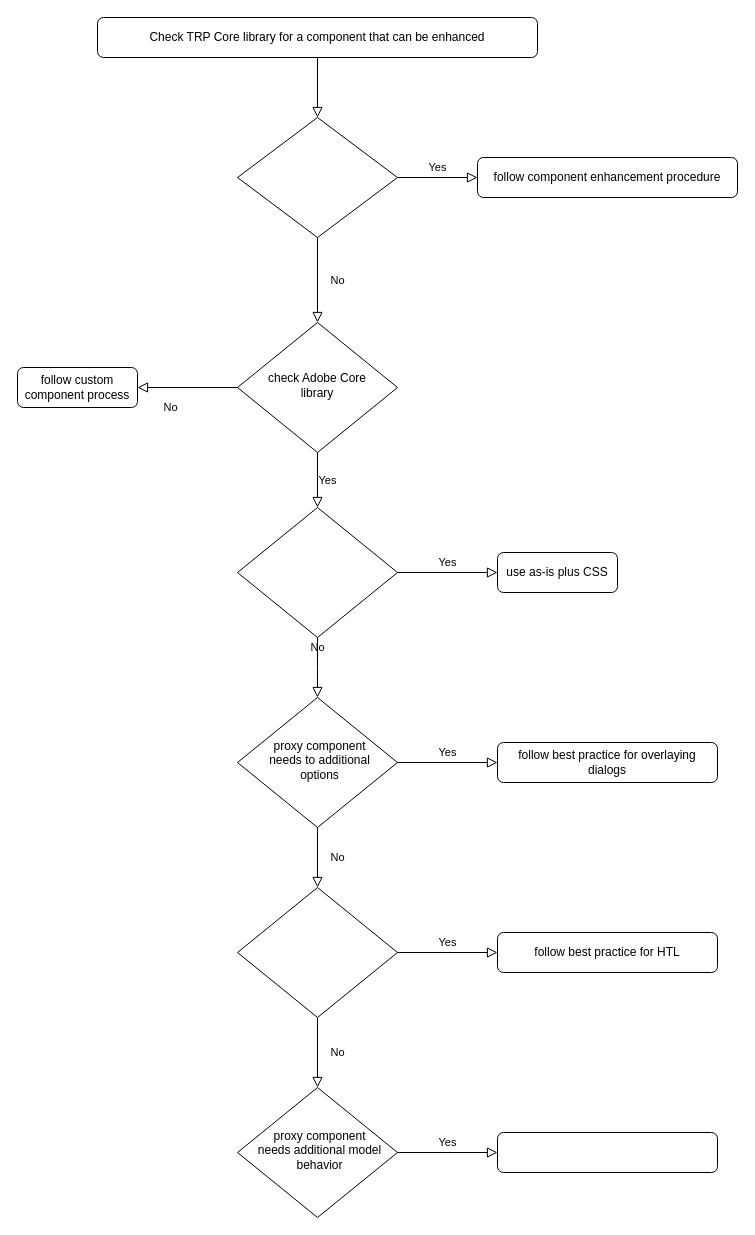
Image size: 755x1235. Some labels were removed from this diagram. Here are the shapes that lost their labels. From the top down, the centre of each, then its label:
At (317,177): "candidate component identified".
At (317,572): "proxy component needs only styling".
At (317,952): "proxy component needs different markup".
At (607,1152): "follow Sling Model delegation pattern".
